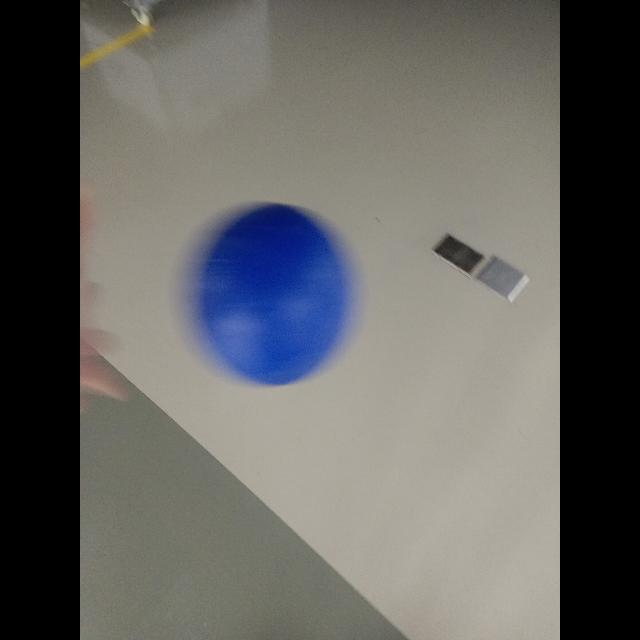B: (178, 201, 356, 391)
